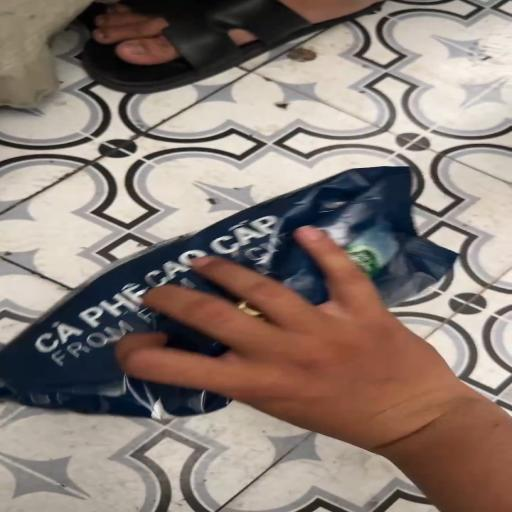cafe_hat: (0, 166, 457, 419)
